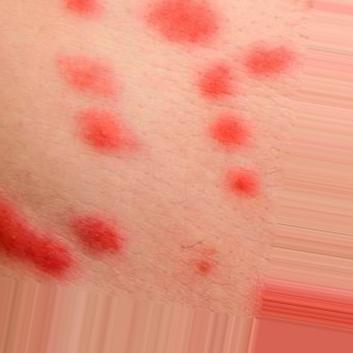Fleas: (0, 200, 80, 294), (68, 96, 142, 173), (67, 202, 129, 268), (52, 50, 122, 99), (145, 0, 218, 45), (204, 106, 257, 159), (240, 42, 299, 79), (198, 63, 235, 100), (224, 169, 262, 200), (62, 0, 104, 18), (193, 248, 216, 279)
